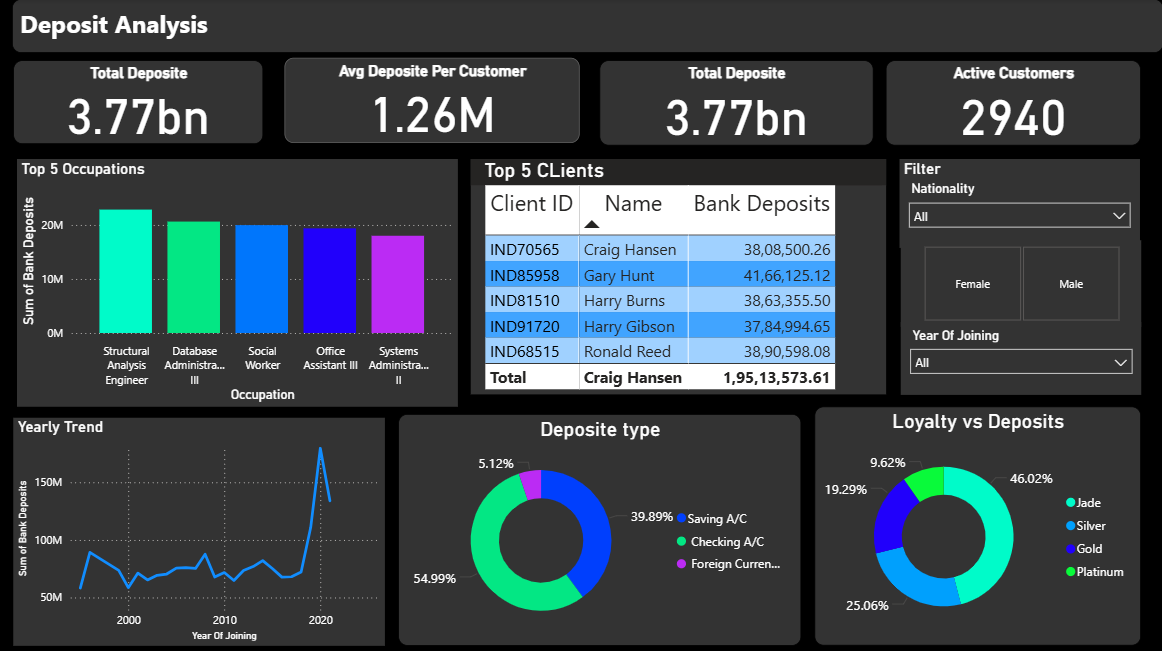

What the dashboard file says about the page in this screenshot:
{"tool":"powerbi","page":{"name":"Page 3","canvas":[1280,720],"ordinal":2},"visuals":[{"type":"card","title":"Total Deposite","fields":{"Values":["Banking.Total Deposite"]},"box":[17.5,67.5,233.8,91.2],"z":0},{"type":"textbox","box":[16.2,0,991.2,58.8],"z":1000},{"type":"card","title":"Avg Deposite Per Customer","fields":{"Values":["Banking.Avg Deposite"]},"box":[263.8,67.5,237.5,92.5],"z":2000},{"type":"card","title":"Total Deposite","fields":{"Values":["Banking.Total Deposite"]},"box":[512.5,66.2,236.2,92.5],"z":3000},{"type":"card","title":"Active Customers","fields":{"Values":["Count(Banking.ï»¿Client ID)"]},"box":[755,67.5,252.5,92.5],"z":4000},{"type":"slicer","title":"Filter","fields":{"Values":["Banking.Nationality"]},"box":[991.2,176.2,263.8,97.5],"z":5000},{"type":"slicer","title":"Gender","fields":{"Values":["Banking.GenderId"]},"box":[991.8,265.3,264.1,94.7],"z":6000},{"type":"columnChart","title":"Top 5 Occupations","fields":{"Category":["Banking.Occupation"],"Y":["Sum(Banking.Bank Deposits)"]},"box":[22,176,484,272],"z":7000},{"type":"donutChart","title":"Deposite type","fields":{"Y":["Sum(Banking.Saving Accounts)","Sum(Banking.Checking Accounts)","Sum(Banking.Foreign Currency Account)"]},"box":[440,456,442,254],"z":8000},{"type":"tableEx","title":"Top 5 CLients","fields":{"Values":["Banking.ï»¿Client ID","Banking.Name","Sum(Banking.Bank Deposits)"]},"box":[520,176,456,258],"z":9000},{"type":"donutChart","title":"Loyalty vs Deposits","fields":{"Category":["Banking.Loyalty Classification"],"Y":["Sum(Banking.Bank Deposits)"]},"box":[898,448,358,262],"z":10000},{"type":"slicer","fields":{"Values":["Banking.Year Of Joining"]},"box":[991.8,355.3,264.1,78.8],"z":11000},{"type":"lineChart","title":"Yearly Trend","fields":{"Category":["Banking.Year Of Joining"],"Y":["Sum(Banking.Bank Deposits)"]},"box":[18,460,408,250],"z":12000}]}

Visuals, with their boxes in screenshot pixels (x1, y1, x2, y2), scaled from the page's 1280x720 canvas onto the 1162x651 screenshot:
"Total Deposite" card: crop(16, 61, 228, 143)
textbox: crop(15, 0, 915, 53)
"Avg Deposite Per Customer" card: crop(239, 61, 455, 145)
"Total Deposite" card: crop(465, 60, 680, 143)
"Active Customers" card: crop(685, 61, 915, 145)
"Filter" slicer: crop(900, 159, 1139, 247)
"Gender" slicer: crop(900, 240, 1140, 326)
"Top 5 Occupations" columnChart: crop(20, 159, 459, 405)
"Deposite type" donutChart: crop(399, 412, 801, 642)
"Top 5 CLients" tableEx: crop(472, 159, 886, 392)
"Loyalty vs Deposits" donutChart: crop(815, 405, 1140, 642)
slicer - Banking.Year Of Joining: crop(900, 321, 1140, 392)
"Yearly Trend" lineChart: crop(16, 416, 387, 642)
